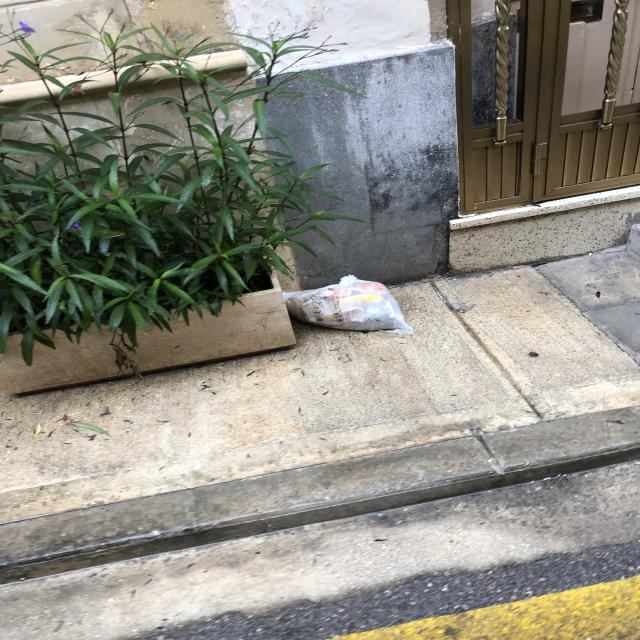Organic Waste -White Bag-: (283, 277, 417, 339)
